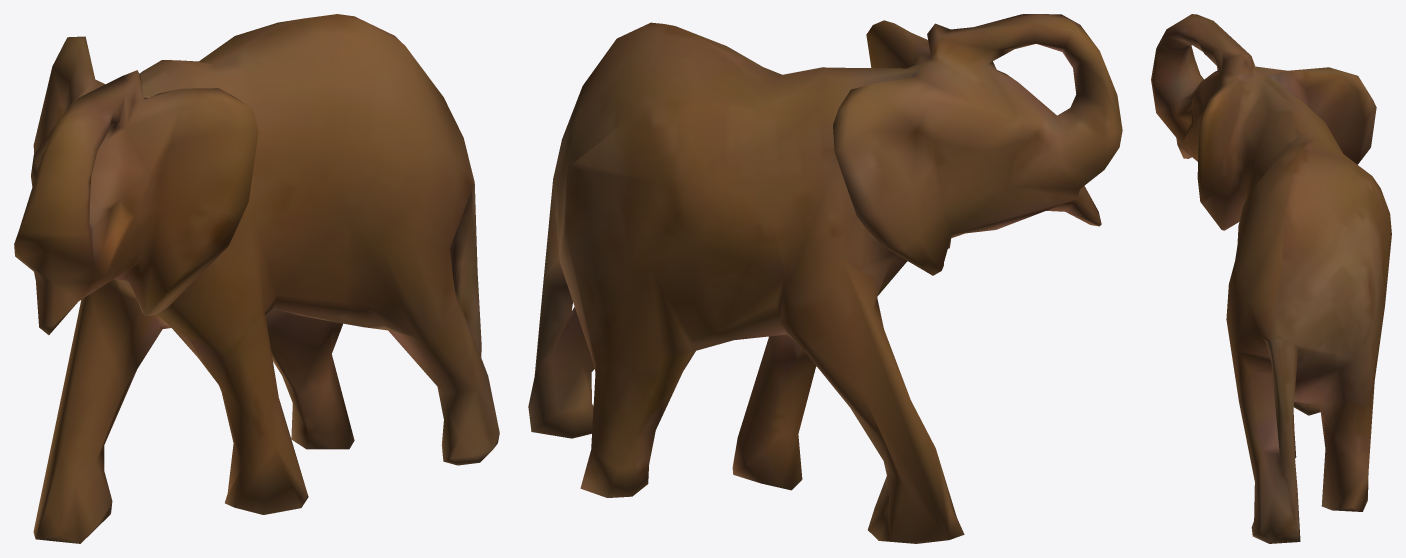
Rendered from design-carved-wooden-elephant.glb.
3 renders of one model, left to right at view 1: azimuth 30°, elevation 25°; view 2: azimuth 150°, elevation 25°; view 3: azimuth 270°, elevation 25°, orthographic. The views are drawn at different scales.
Parts seen in each view (by area): view 1: carved_wooden_elephant; view 2: carved_wooden_elephant; view 3: carved_wooden_elephant.
Part boxes in pixels (left/top/right/bottom): carved_wooden_elephant: left=14, top=14, right=499, bottom=543; carved_wooden_elephant: left=528, top=14, right=1122, bottom=543; carved_wooden_elephant: left=1151, top=14, right=1391, bottom=543.
Size of the model in its own units: 0.109 by 0.0961 by 0.0576.
1 material, 1 textured.
